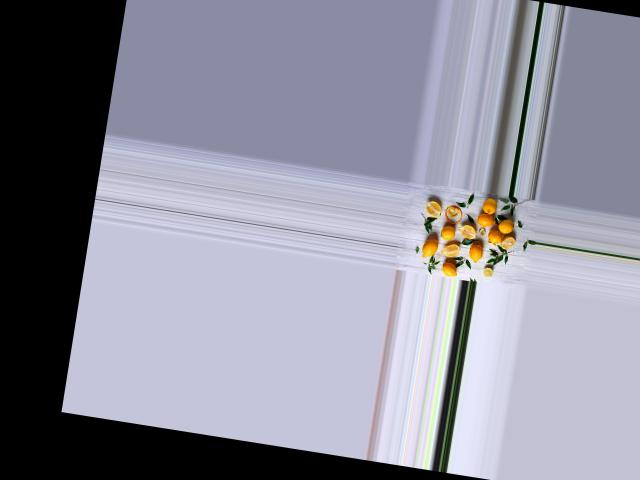lemon: (477, 197, 500, 216)
